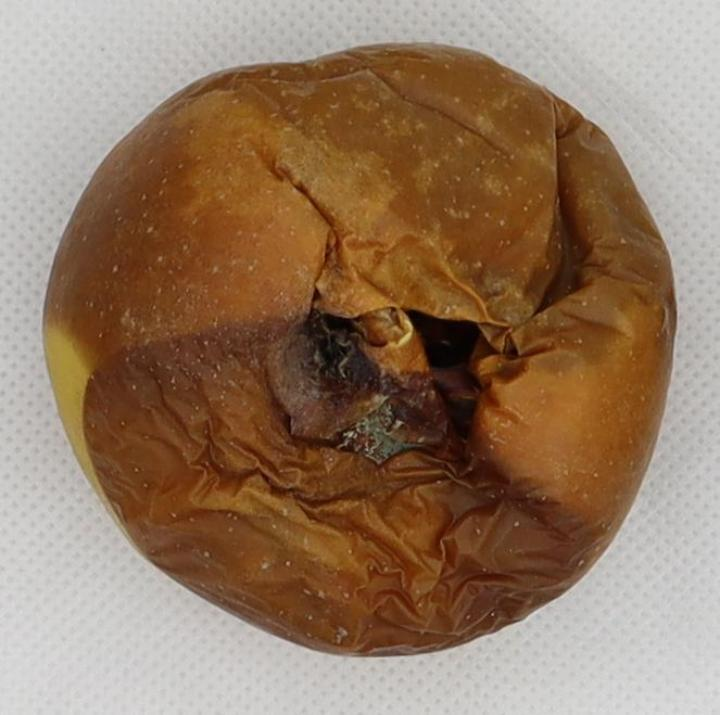apple: (43, 45, 674, 655)
rot_mold_decay: (49, 46, 674, 654)
